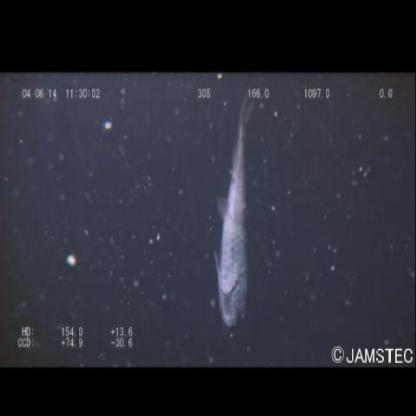Bio: (209, 90, 258, 329)
